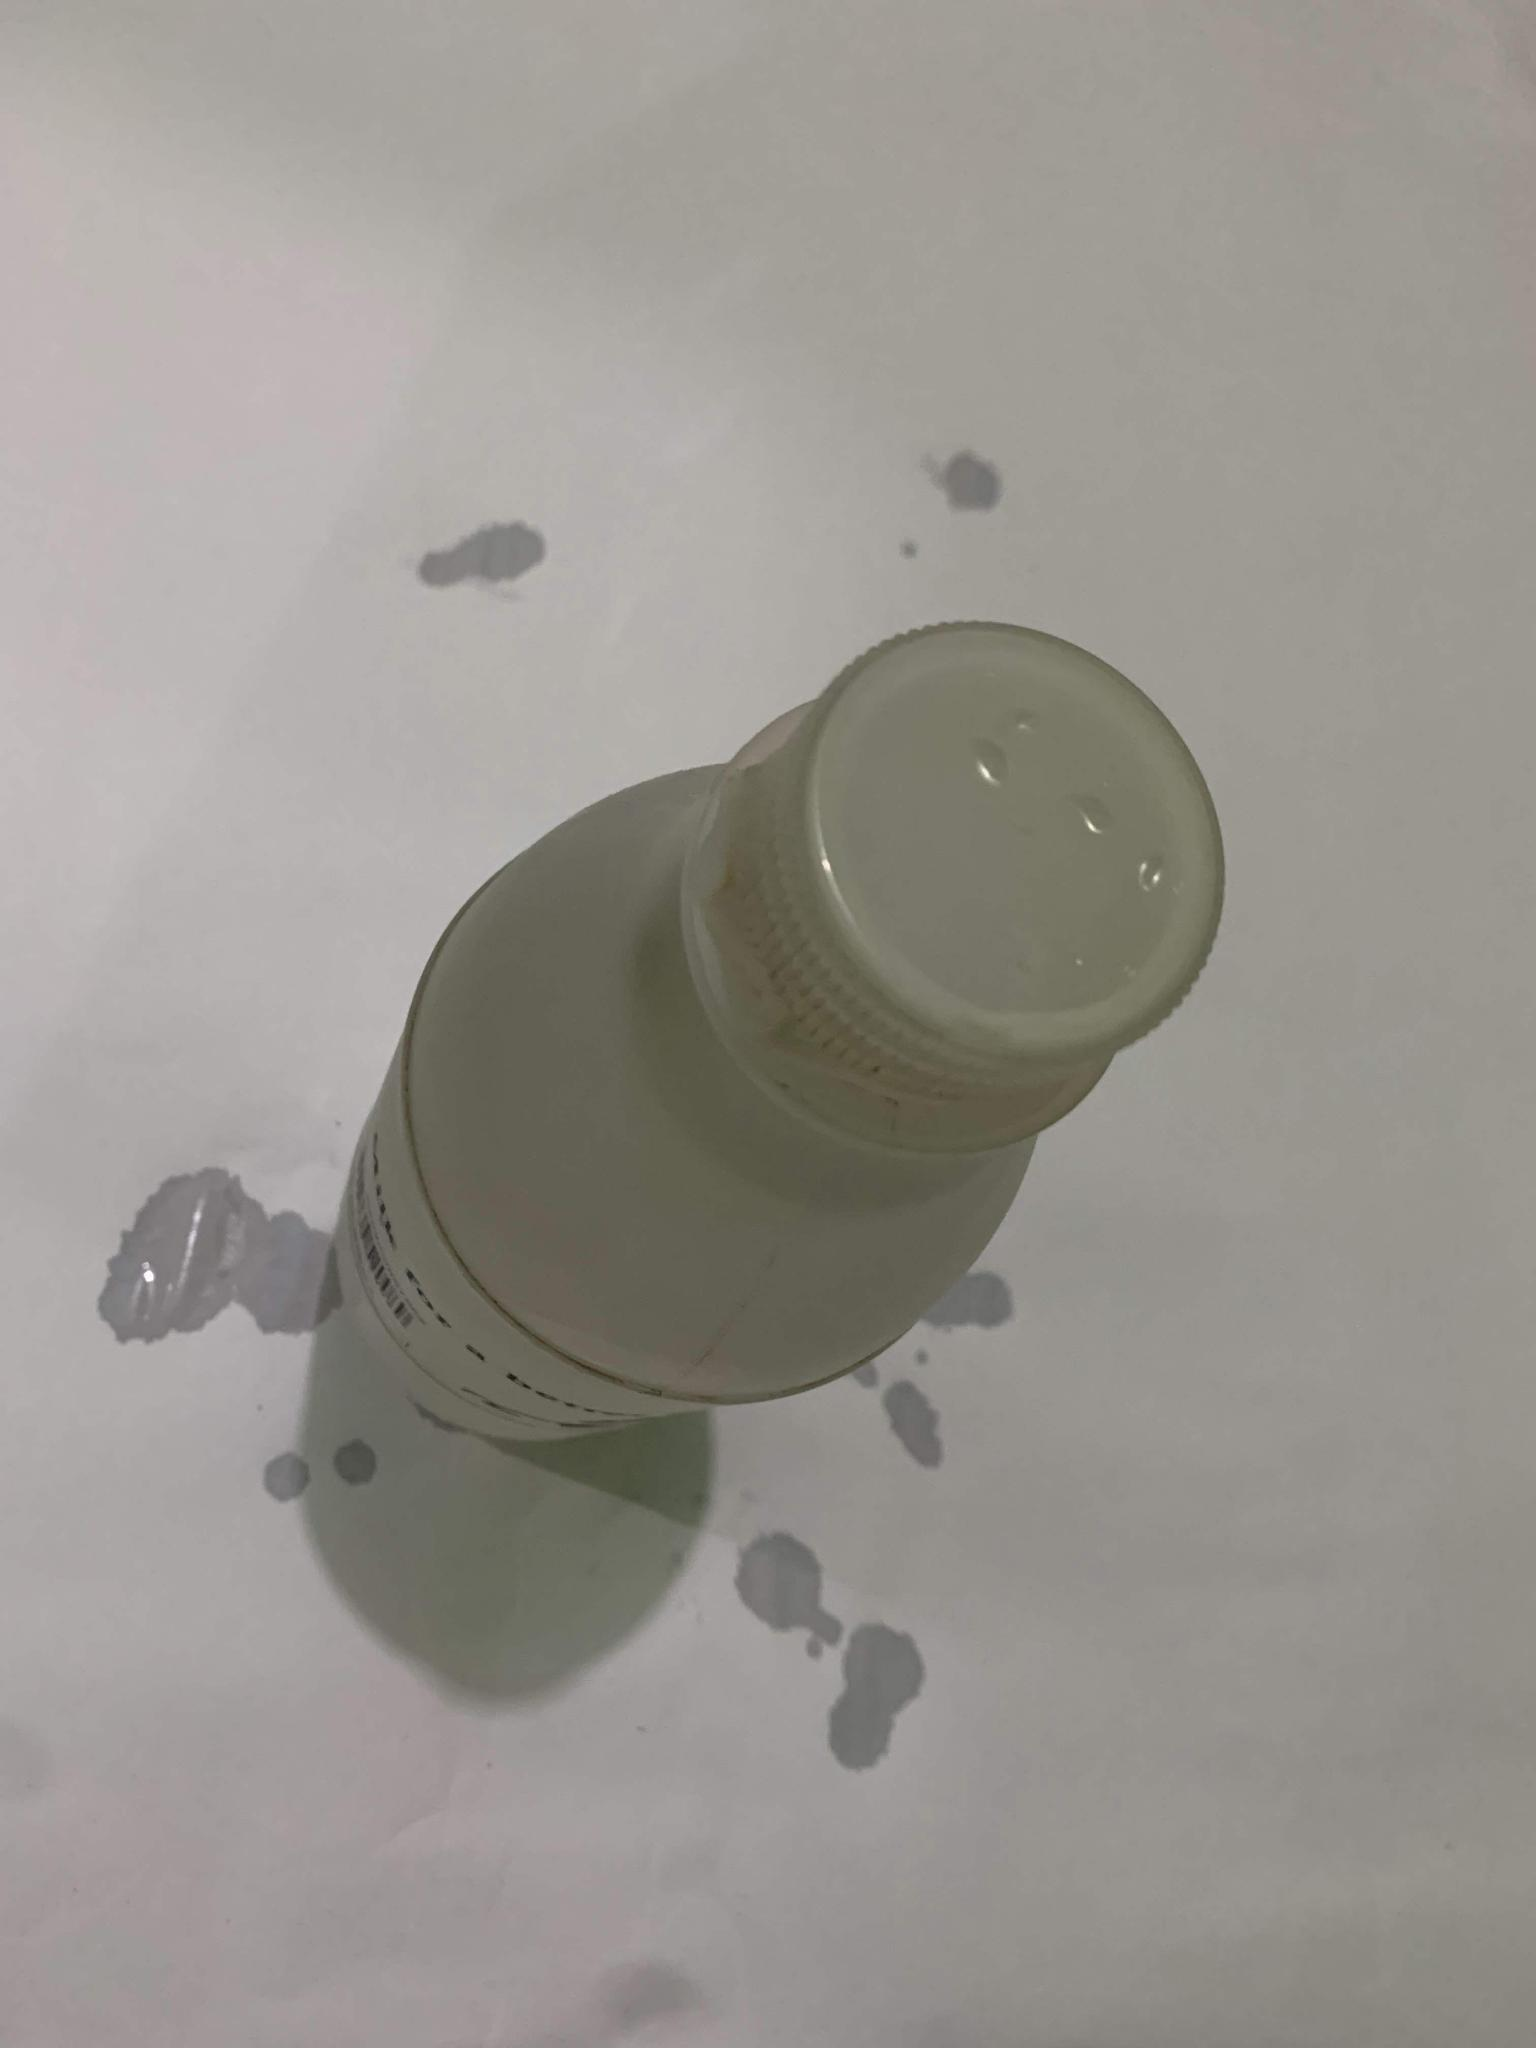bottle: (281, 500, 1289, 1508)
